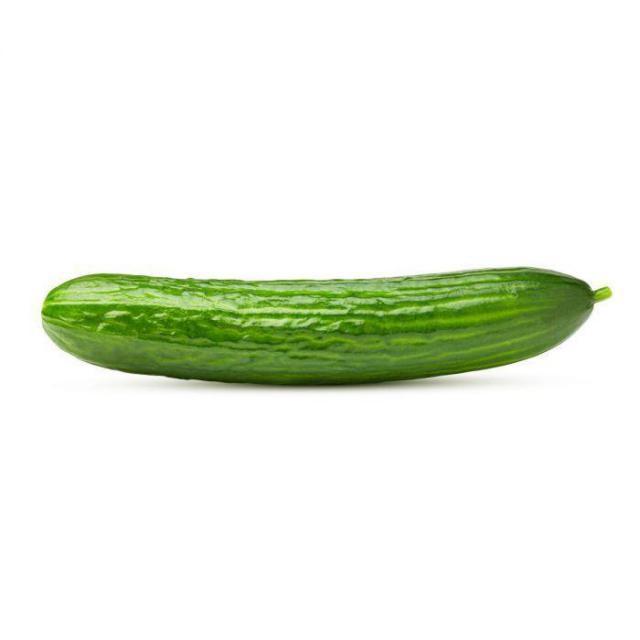cucumber: (38, 265, 622, 389)
